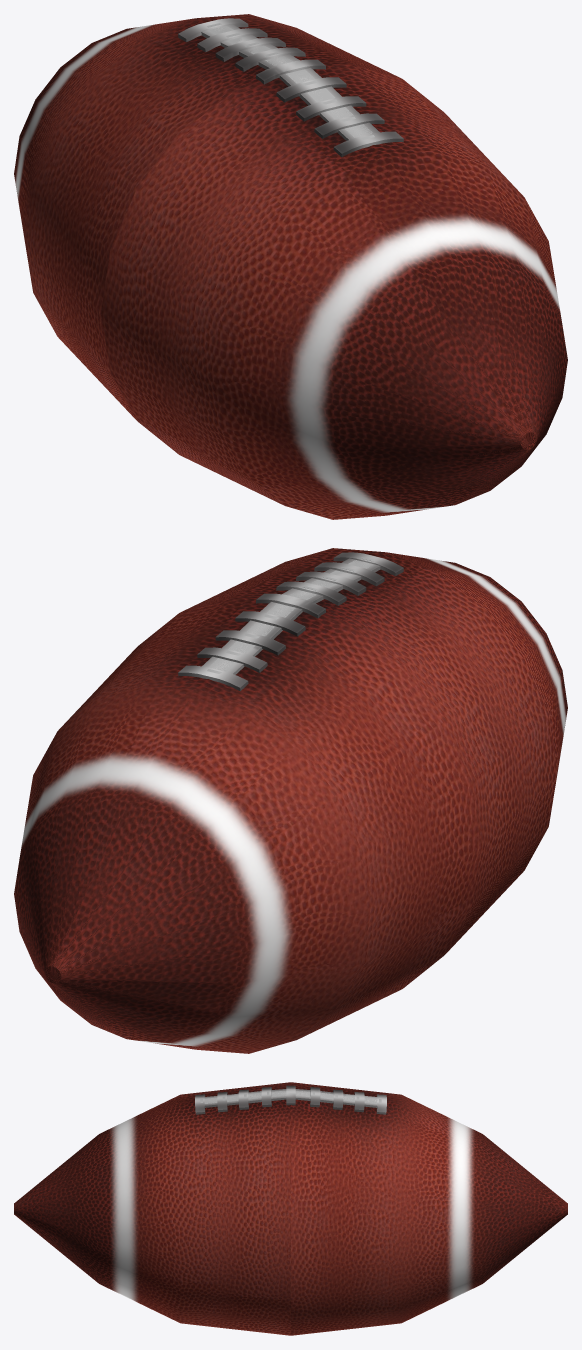
Rendered from football.fbx.
The picture shows the model from 3 angles, top to bottom: view 1: azimuth 30°, elevation 25°; view 2: azimuth 150°, elevation 25°; view 3: azimuth 270°, elevation 25°; orthographic projection. The views are drawn at different scales.
Parts seen in each view (by area): view 1: polySurface15, pCube1; view 2: polySurface15, pCube1; view 3: polySurface15, pCube1.
Part boxes in pixels (<box>): polySurface15: <box>14,14,567,519</box>; pCube1: <box>208,26,372,137</box>; polySurface15: <box>14,548,567,1053</box>; pCube1: <box>209,560,372,671</box>; polySurface15: <box>14,1082,567,1335</box>; pCube1: <box>204,1091,377,1103</box>.
Bounding box in the file's own units: 2 × 2.01 × 4.34.
